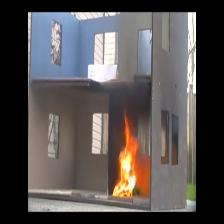fire: (113, 109, 146, 198)
